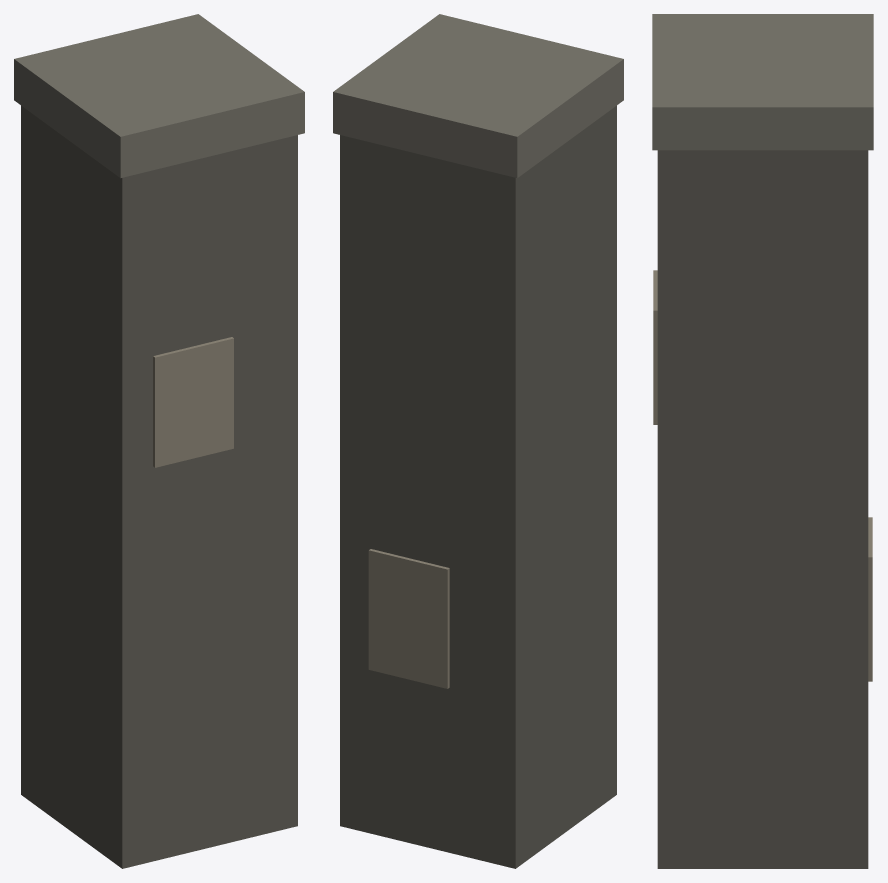
The model's file is ancient_fence_post.obj.
3 renders of one model, left to right at view 1: azimuth 30°, elevation 25°; view 2: azimuth 150°, elevation 25°; view 3: azimuth 270°, elevation 25°, orthographic. The views are drawn at different scales.
Parts seen in each view (by area): view 1: ancient_fence_post; view 2: ancient_fence_post; view 3: ancient_fence_post.
Part boxes in pixels (x1=…): ancient_fence_post: x1=14, y1=14, x2=304, y2=868; ancient_fence_post: x1=333, y1=14, x2=623, y2=868; ancient_fence_post: x1=652, y1=14, x2=873, y2=868.
Size of the model in its own units: 0.21 by 0.8 by 0.21.
